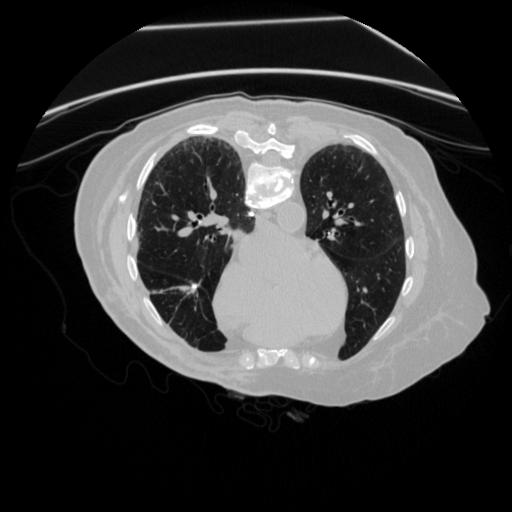nodule: (245, 210, 256, 221)
